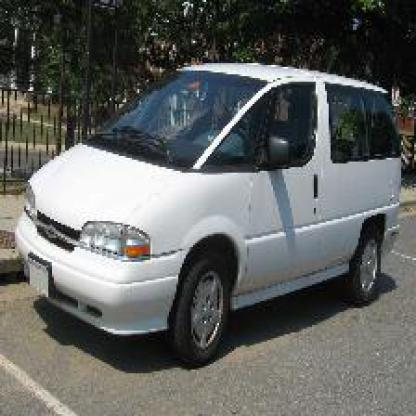not_emergency: (15, 50, 407, 346)
